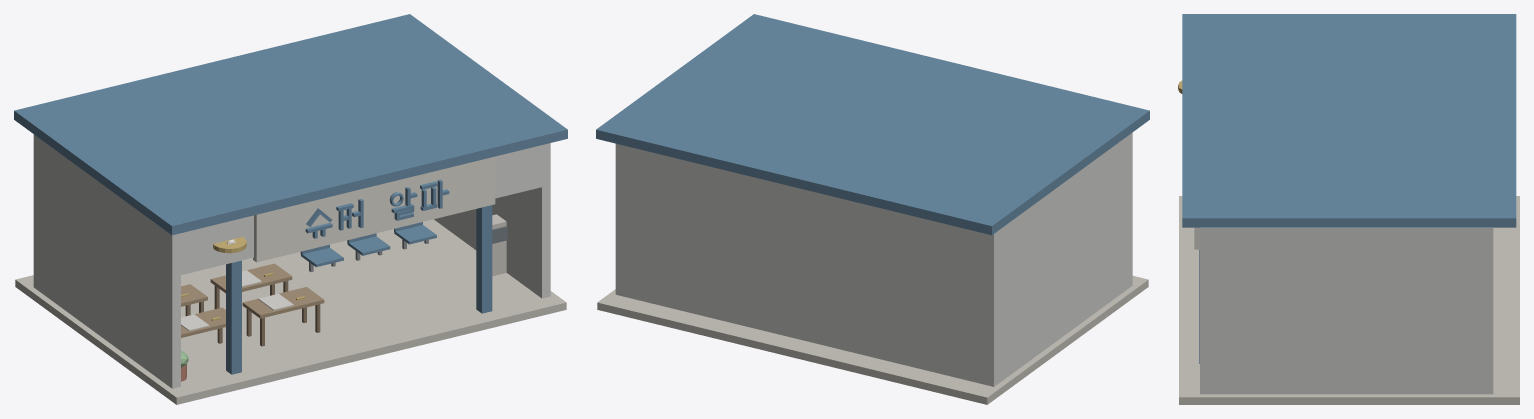
Rendered from arbiter.glb.
3 renders of one model, left to right at view 1: azimuth 30°, elevation 25°; view 2: azimuth 150°, elevation 25°; view 3: azimuth 270°, elevation 25°, orthographic. The views are drawn at different scales.
Parts seen in each view (by area): view 1: part_00, part_11, part_07, part_13, part_05, part_03, part_14, part_08, part_09; view 2: part_11, part_00, part_07; view 3: part_00, part_11, part_07.
Boxes of the visible parts, x1,y1,x2,y2 form: part_00: [14, 14, 567, 374]; part_11: [33, 134, 550, 388]; part_07: [15, 219, 566, 404]; part_13: [227, 156, 495, 262]; part_05: [181, 263, 324, 337]; part_03: [185, 281, 320, 346]; part_14: [181, 270, 293, 330]; part_08: [492, 214, 506, 276]; part_09: [181, 237, 305, 320]; part_11: [615, 132, 1132, 386]; part_00: [596, 14, 1149, 235]; part_07: [597, 276, 1148, 404]; part_00: [1182, 14, 1516, 363]; part_11: [1200, 227, 1493, 394]; part_07: [1179, 196, 1519, 404].
Bounding box in the file's own units: 13.6 × 5.85 × 9.62.
